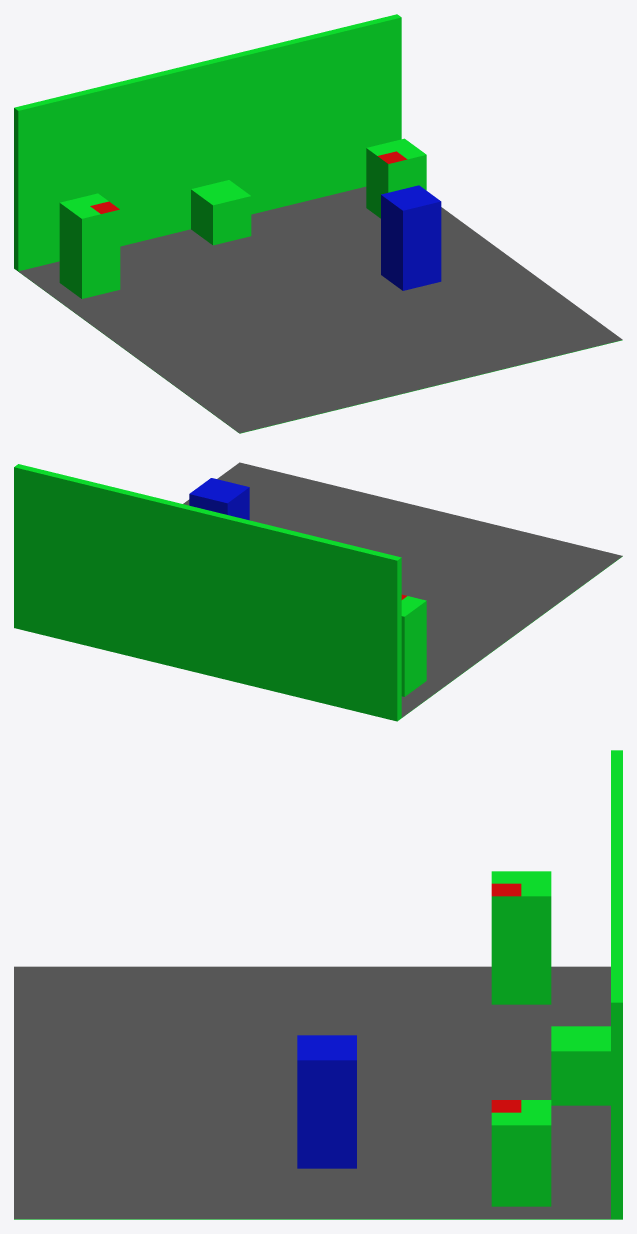
The model's file is ArenaKRTI.dae.
3 views of the same model, one above another, from view 1: azimuth 30°, elevation 25°; view 2: azimuth 150°, elevation 25°; view 3: azimuth 270°, elevation 25° (orthographic). The views are drawn at different scales.
Parts seen in each view (by area): view 1: Cube; view 2: Cube; view 3: Cube.
Part boxes in pixels (bbox=[...]): Cube: bbox=[14, 14, 622, 433]; Cube: bbox=[14, 462, 622, 721]; Cube: bbox=[14, 750, 622, 1219].
Size of the model in its own units: 1000 by 1020 by 401.
